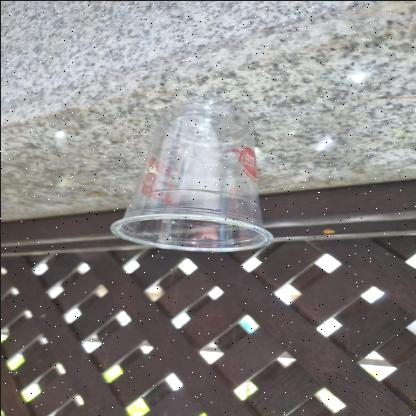Others: (106, 96, 276, 256)
